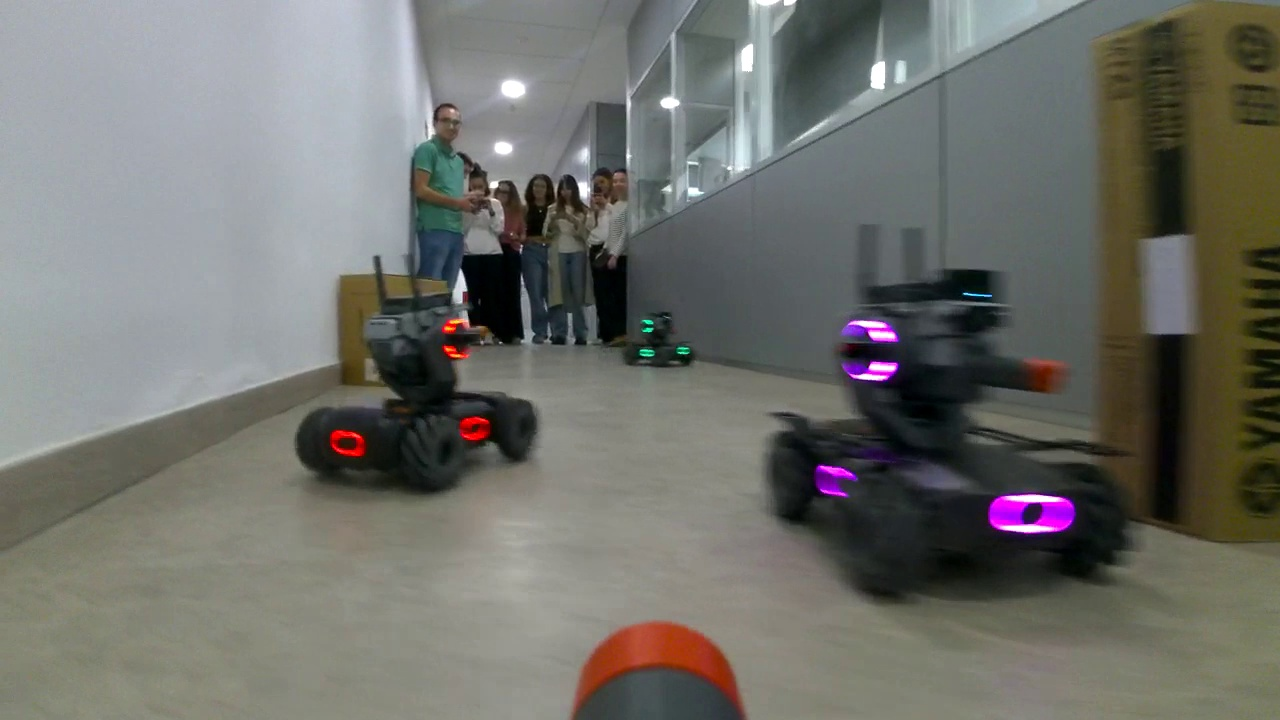robot: (764, 282, 1139, 610), (291, 290, 537, 498), (620, 310, 698, 370)
